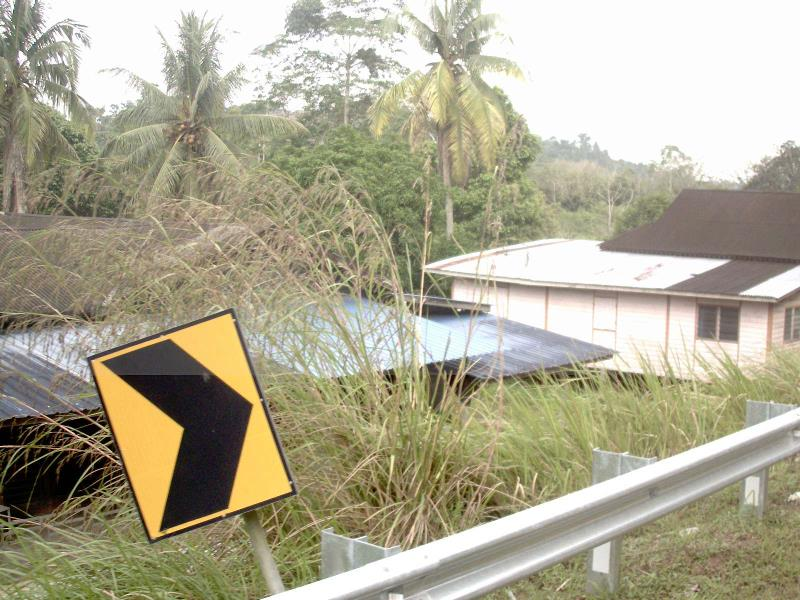traffic_sign: (74, 289, 289, 567)
